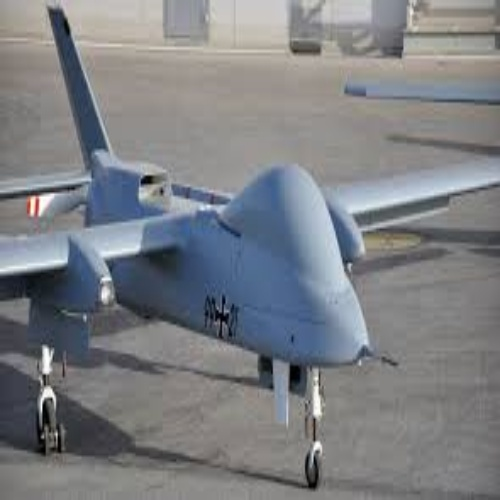uav699: (4, 2, 498, 494)
